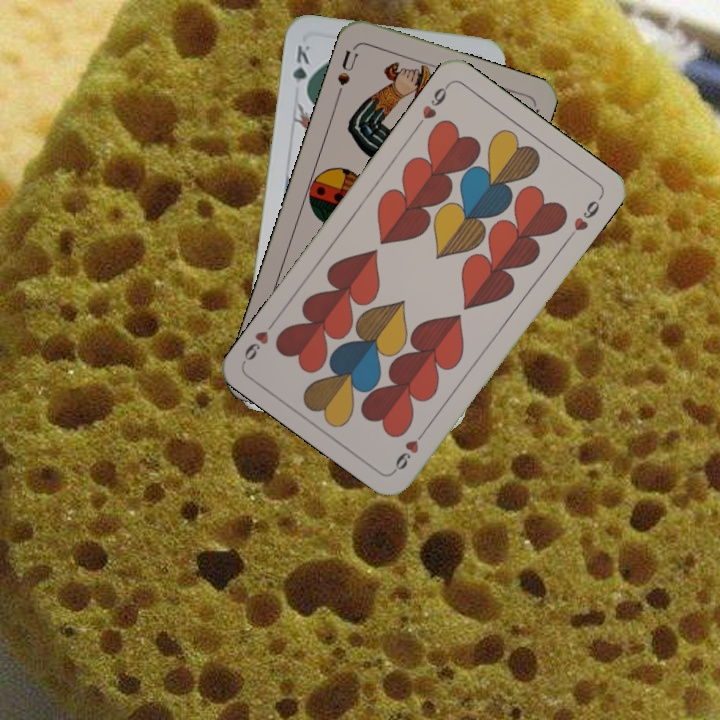GK: (288, 41, 313, 98)
H9: (412, 80, 452, 131), (390, 424, 430, 475)
SU: (333, 42, 361, 100)
